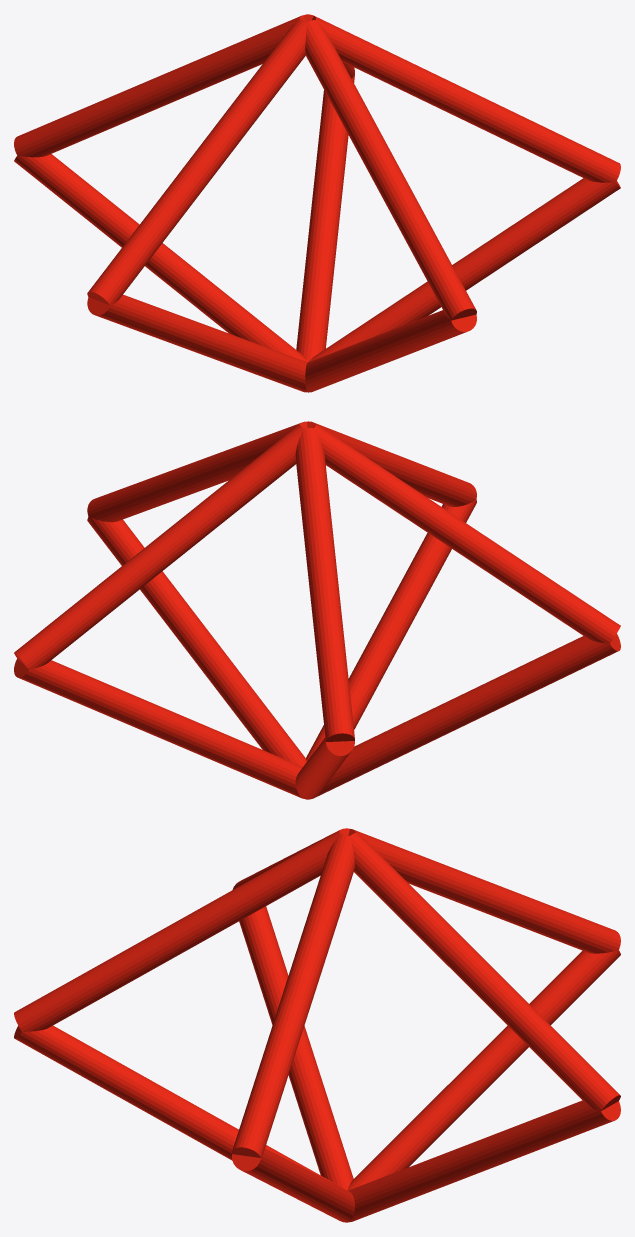
File: trinexus1_1.glb
The picture shows the model from 3 angles, top to bottom: view 1: azimuth 30°, elevation 25°; view 2: azimuth 150°, elevation 25°; view 3: azimuth 270°, elevation 25°; orthographic projection. The views are drawn at different scales.
Parts seen in each view (by area): view 1: Mesh_3; view 2: Mesh_3; view 3: Mesh_3.
Part boxes in pixels (x1,y1,x2,y2): Mesh_3: [14, 14, 620, 392]; Mesh_3: [14, 421, 620, 799]; Mesh_3: [14, 828, 620, 1222].
Bounding box in the file's own units: 2.5 × 1.68 × 2.38.
